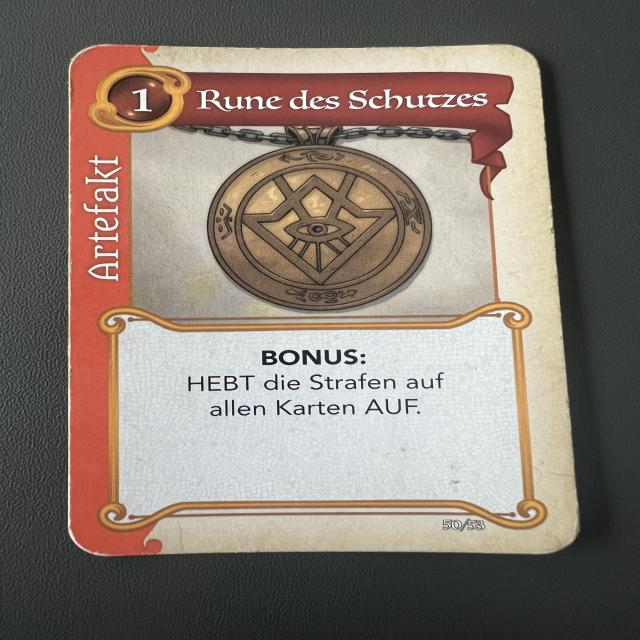Rune Of Protection: (59, 42, 587, 570)
